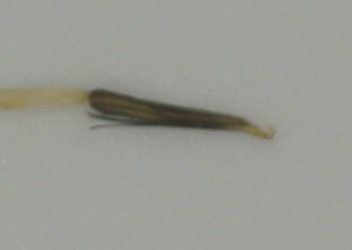เมล็ดงอกแตก: (1, 83, 277, 142)
